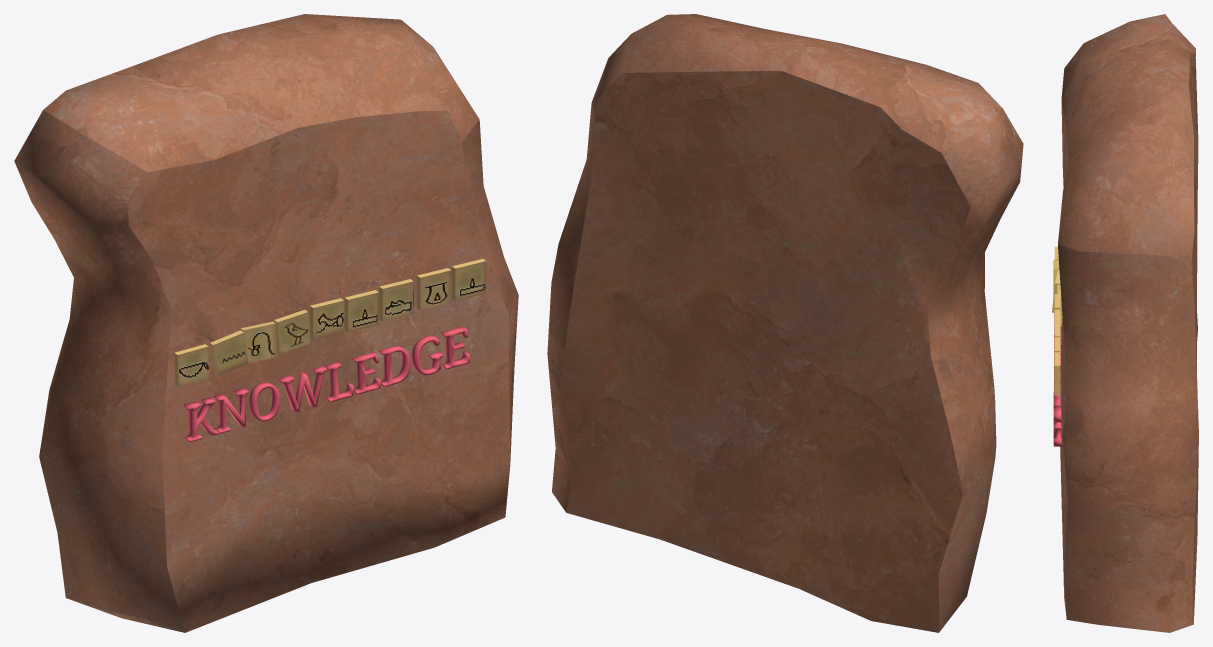
Rendered from MonoliteConoscenza.fbx.
The picture shows the model from 3 angles, left to right: view 1: azimuth 30°, elevation 25°; view 2: azimuth 150°, elevation 25°; view 3: azimuth 270°, elevation 25°; orthographic projection. The views are drawn at different scales.
Parts seen in each view (by area): view 1: prim1, prim0, prim7, prim8, prim9, prim10, prim2, prim3, prim5, prim6, prim4; view 2: prim1; view 3: prim1, prim0, prim10.
Part boxes in pixels (bbox=[...]): prim1: bbox=[14, 14, 518, 632]; prim0: bbox=[183, 326, 469, 442]; prim7: bbox=[344, 290, 378, 332]; prim8: bbox=[379, 279, 413, 321]; prim9: bbox=[417, 268, 451, 310]; prim10: bbox=[452, 259, 486, 300]; prim2: bbox=[174, 344, 209, 387]; prim3: bbox=[210, 330, 248, 375]; prim5: bbox=[274, 309, 310, 353]; prim6: bbox=[310, 298, 343, 340]; prim4: bbox=[240, 321, 277, 362]; prim1: bbox=[547, 14, 1023, 632]; prim1: bbox=[1058, 14, 1198, 632]; prim0: bbox=[1053, 313, 1062, 446]; prim10: bbox=[1054, 352, 1060, 395].
Size of the model in its own units: 153 by 172 by 46.84.
11 materials, 9 textured.
